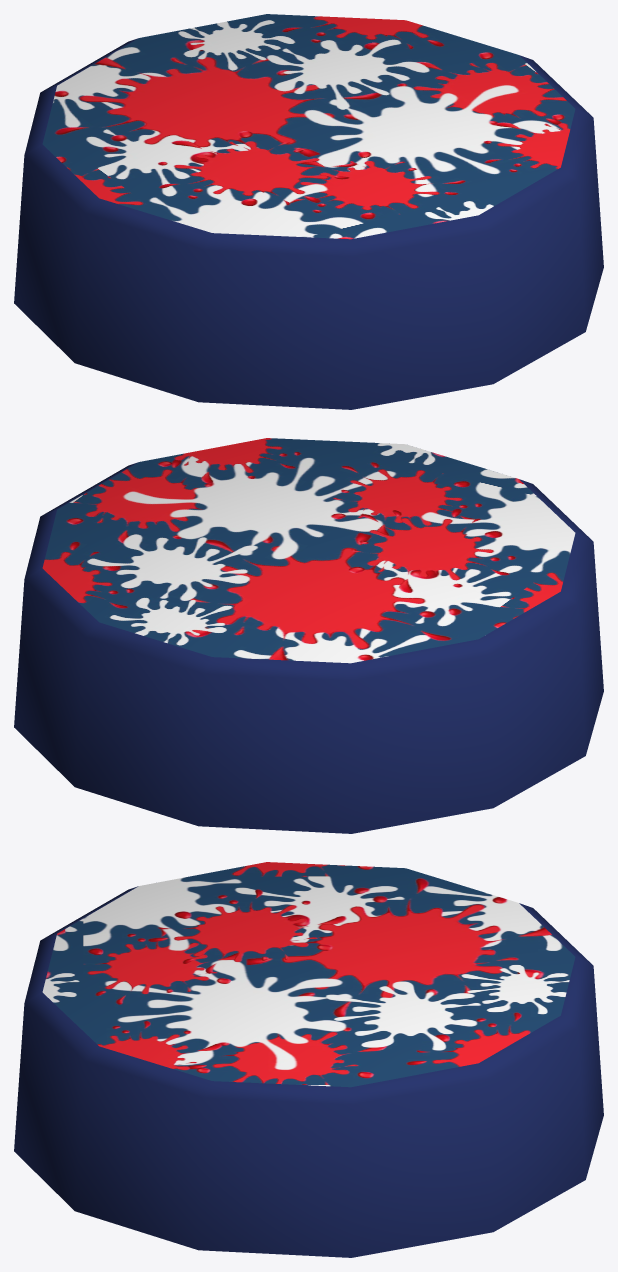
The model's file is singleCap-transformed.glb.
3 renders of one model, top to bottom at view 1: azimuth 30°, elevation 25°; view 2: azimuth 150°, elevation 25°; view 3: azimuth 270°, elevation 25°, orthographic.
Parts seen in each view (by area): view 1: Cylinder.297; view 2: Cylinder.297; view 3: Cylinder.297.
Boxes of the visible parts, x1,y1,x2,y2 form: Cylinder.297: (14,14,603,409); Cylinder.297: (14,438,603,833); Cylinder.297: (14,862,603,1257).
Bounding box in the file's own units: 0.7355 × 0.2182 × 0.7355.
2 materials, 1 textured.
